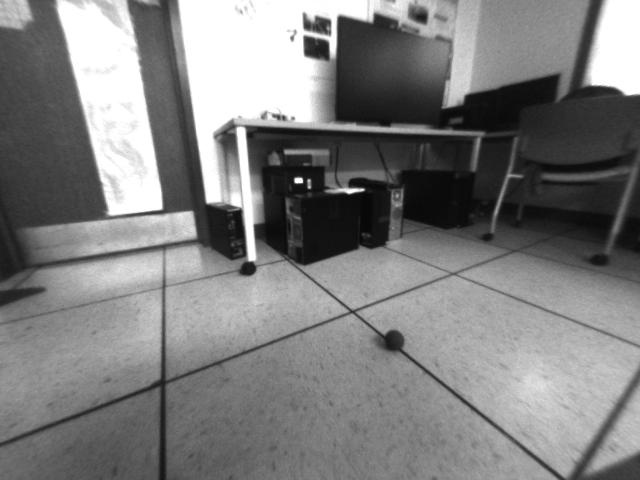dogtoy: (378, 323, 411, 354)
